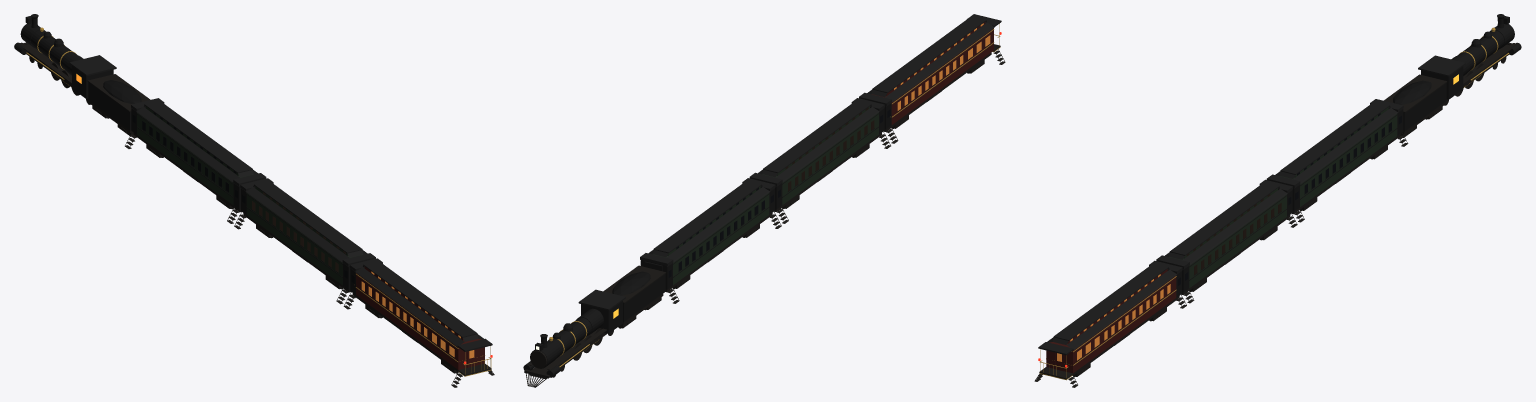
The model's file is hoboken_train.glb.
3 renders of one model, left to right at view 1: azimuth 30°, elevation 25°; view 2: azimuth 150°, elevation 25°; view 3: azimuth 330°, elevation 25°, orthographic.
Parts seen in each view (by area): view 1: PrivateCar-col, Coach2-col, Coach1-col, Engine-col; view 2: Coach2-col, PrivateCar-col, Coach1-col, Engine-col; view 3: PrivateCar-col, Coach2-col, Coach1-col, Engine-col.
Boxes of the visible parts, box(x1,y1,x2,y2) form: PrivateCar-col: box(343, 258, 494, 387); Coach2-col: box(125, 98, 266, 223); Coach1-col: box(234, 178, 375, 304); Engine-col: box(14, 14, 150, 136); Coach2-col: box(640, 178, 781, 303); PrivateCar-col: box(859, 14, 1005, 143); Coach1-col: box(749, 98, 890, 223); Engine-col: box(523, 265, 666, 387); PrivateCar-col: box(1034, 260, 1186, 387); Coach2-col: box(1266, 99, 1408, 222); Coach1-col: box(1156, 179, 1297, 303); Engine-col: box(1384, 14, 1521, 137).
Size of the model in its own units: 4.51 by 4.82 by 88.83.
14 materials, 2 textured.
